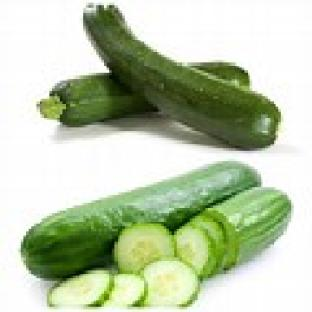Zucchini: (84, 6, 280, 148), (21, 162, 260, 278), (37, 73, 156, 127), (208, 188, 291, 262), (115, 224, 174, 273), (141, 258, 200, 306), (47, 268, 111, 306), (175, 224, 218, 278), (188, 214, 226, 273), (102, 274, 145, 309)
